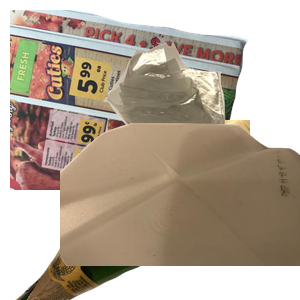glass: (13, 120, 253, 300)
paper: (10, 10, 250, 190)
plastic: (60, 120, 300, 300)
trash: (101, 40, 300, 192)
